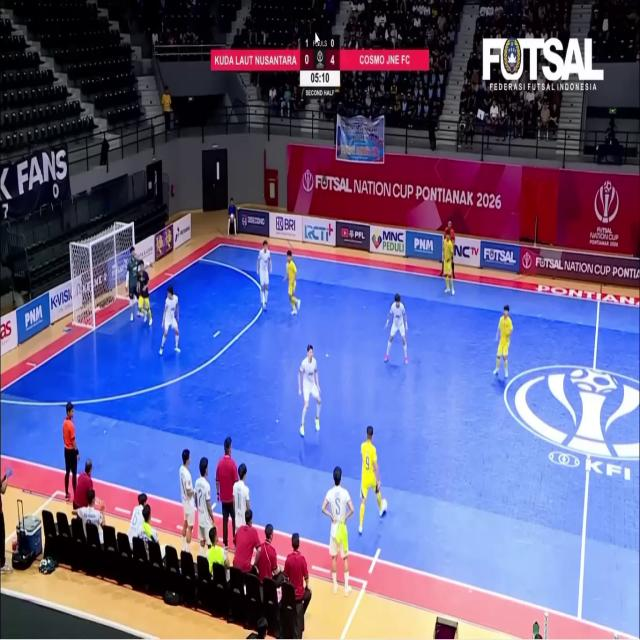official: (283, 534, 311, 638), (216, 437, 238, 549)
players: (322, 467, 353, 595), (359, 426, 386, 534), (298, 345, 320, 436), (194, 458, 213, 555), (385, 294, 408, 364), (179, 450, 194, 550), (494, 305, 513, 379), (160, 286, 180, 354), (257, 240, 272, 309), (285, 250, 300, 314), (138, 260, 152, 326), (127, 247, 138, 321), (443, 229, 454, 294)
referee: (63, 402, 79, 501), (446, 220, 454, 246)
